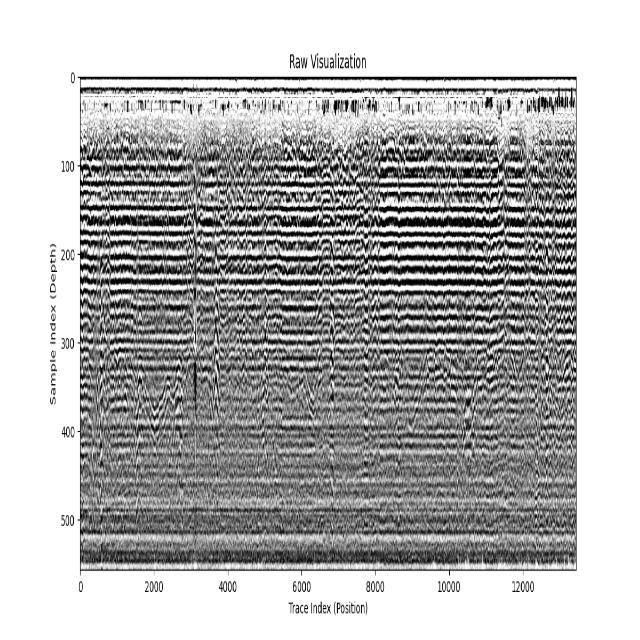anomaly: (404, 340, 574, 434), (117, 352, 187, 521), (321, 167, 337, 440), (95, 191, 106, 561), (278, 371, 338, 428), (190, 141, 197, 568), (212, 145, 219, 453)
